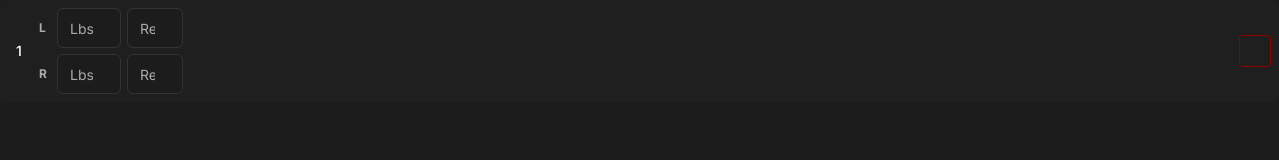
Test: unilateral set entry › records left and right independently
Click the 1st number field with placeholder "Lbs": (89, 28) top-left (57, 8), bottom-right (121, 48)
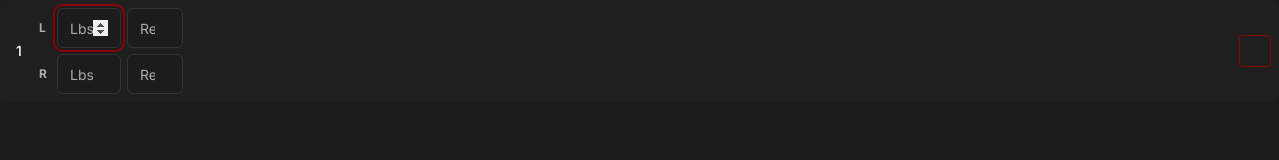
Type keys "30"
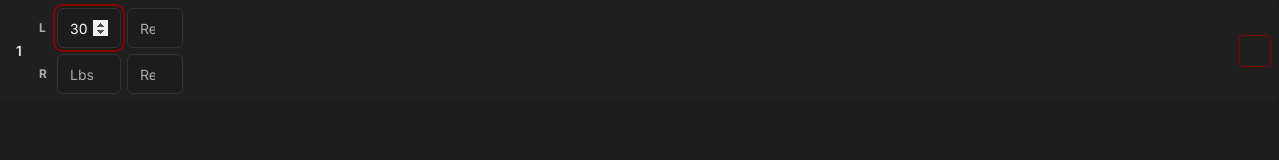
Click the number field with placeholder "Lbs": (89, 74) top-left (57, 54), bottom-right (121, 94)
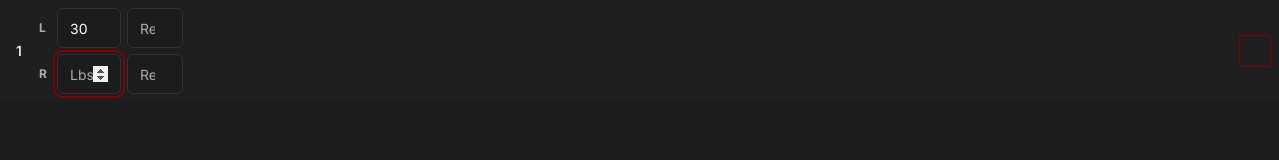
Type keys "35"
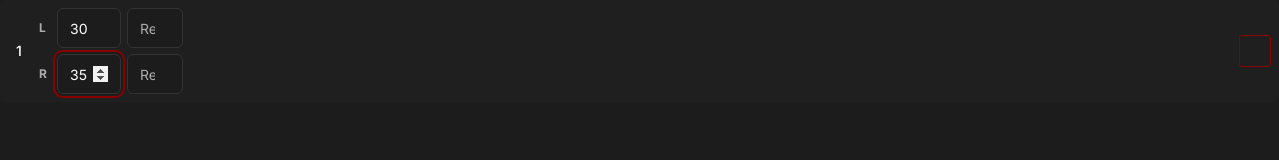
expect the 1st number field with placeholder "Lbs" holds "30": met, box top-left (57, 8), bottom-right (121, 48)
expect the 2nd number field with placeholder "Lbs" holds "35": met, box top-left (57, 54), bottom-right (121, 94)
